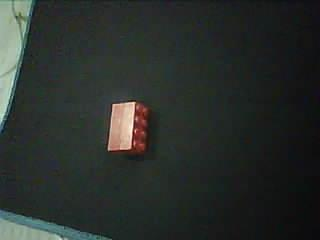lego: (105, 100, 149, 153)
